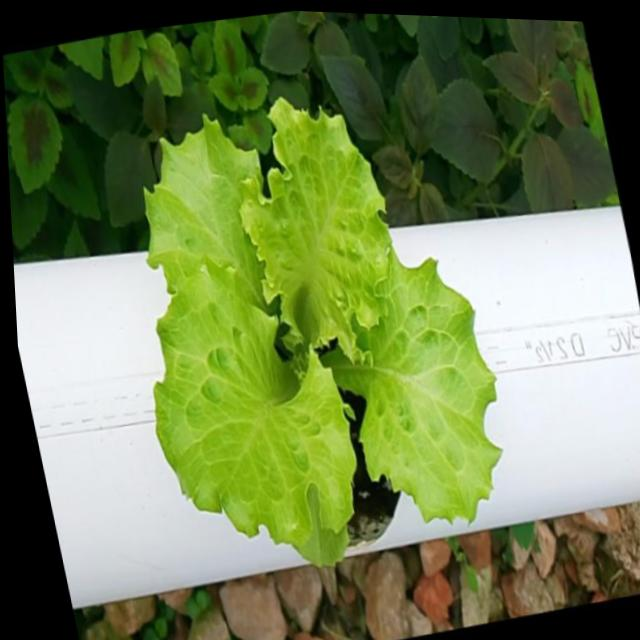Baby: (146, 83, 507, 556)
